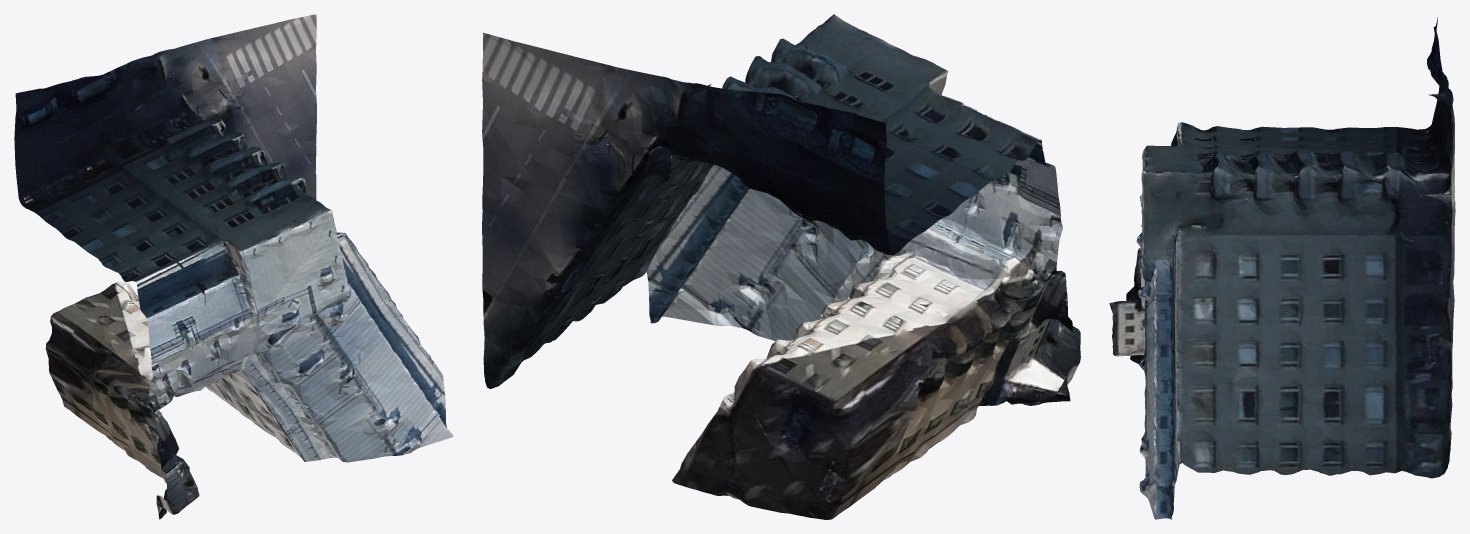
Rendered from Tile_+031_+024_L21_00003000.obj.
3 views of the same model, side by side, from view 1: azimuth 30°, elevation 25°; view 2: azimuth 150°, elevation 25°; view 3: azimuth 270°, elevation 25° (orthographic). The views are drawn at different scales.
Size of the model in its own units: 31.38 by 31.38 by 28.53.
1 material, 1 textured.
